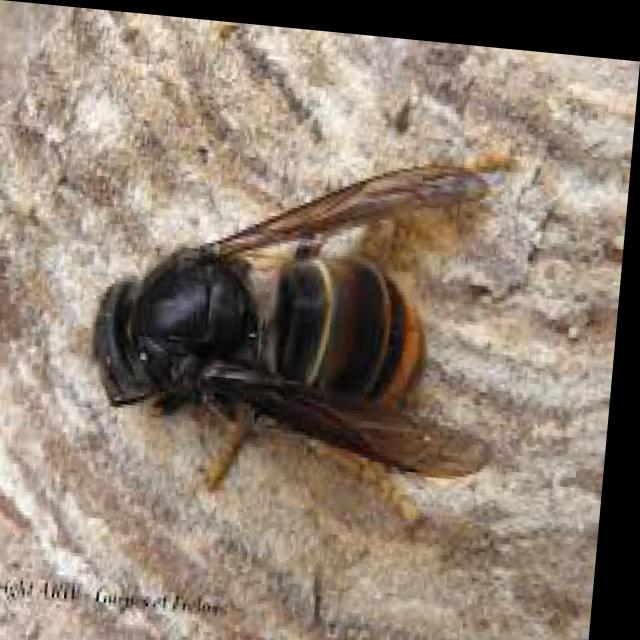Vespa Velutina: (70, 105, 532, 510)
